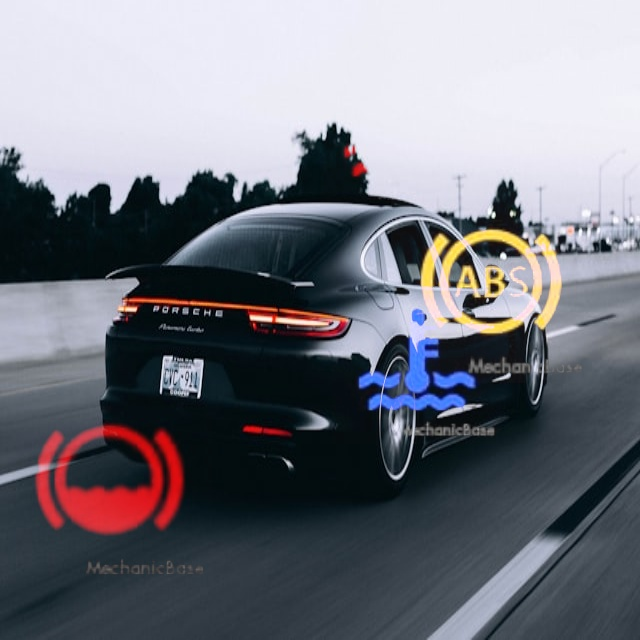symbol: (5, 378, 212, 585), (391, 184, 590, 383), (332, 275, 501, 444), (321, 58, 469, 206)
